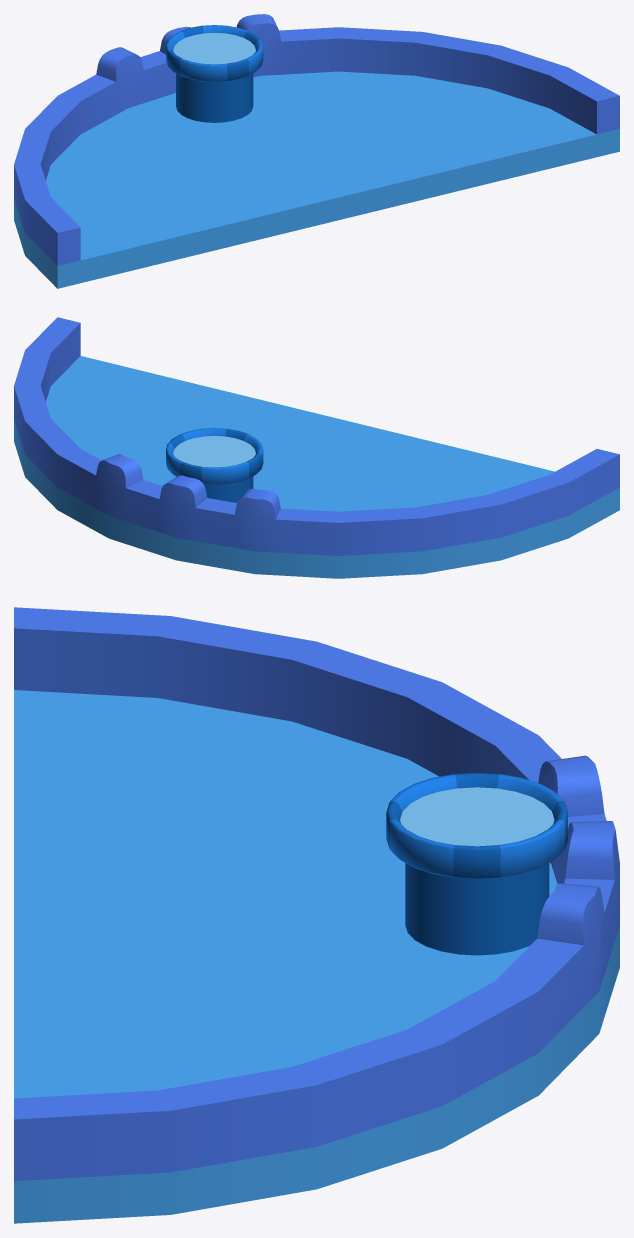
File: bonus_bottom.fbx
The picture shows the model from 3 angles, top to bottom: view 1: azimuth 30°, elevation 25°; view 2: azimuth 150°, elevation 25°; view 3: azimuth 270°, elevation 25°; orthographic projection. The views are drawn at different scales.
Parts seen in each view (by area): view 1: bonus_bottom; view 2: bonus_bottom; view 3: bonus_bottom.
Part boxes in pixels (<box>): bonus_bottom: <box>14,14,619,288</box>; bonus_bottom: <box>14,317,619,578</box>; bonus_bottom: <box>14,607,619,1223</box>.
Bounding box in the file's own units: 3.34 × 0.4782 × 1.67.
